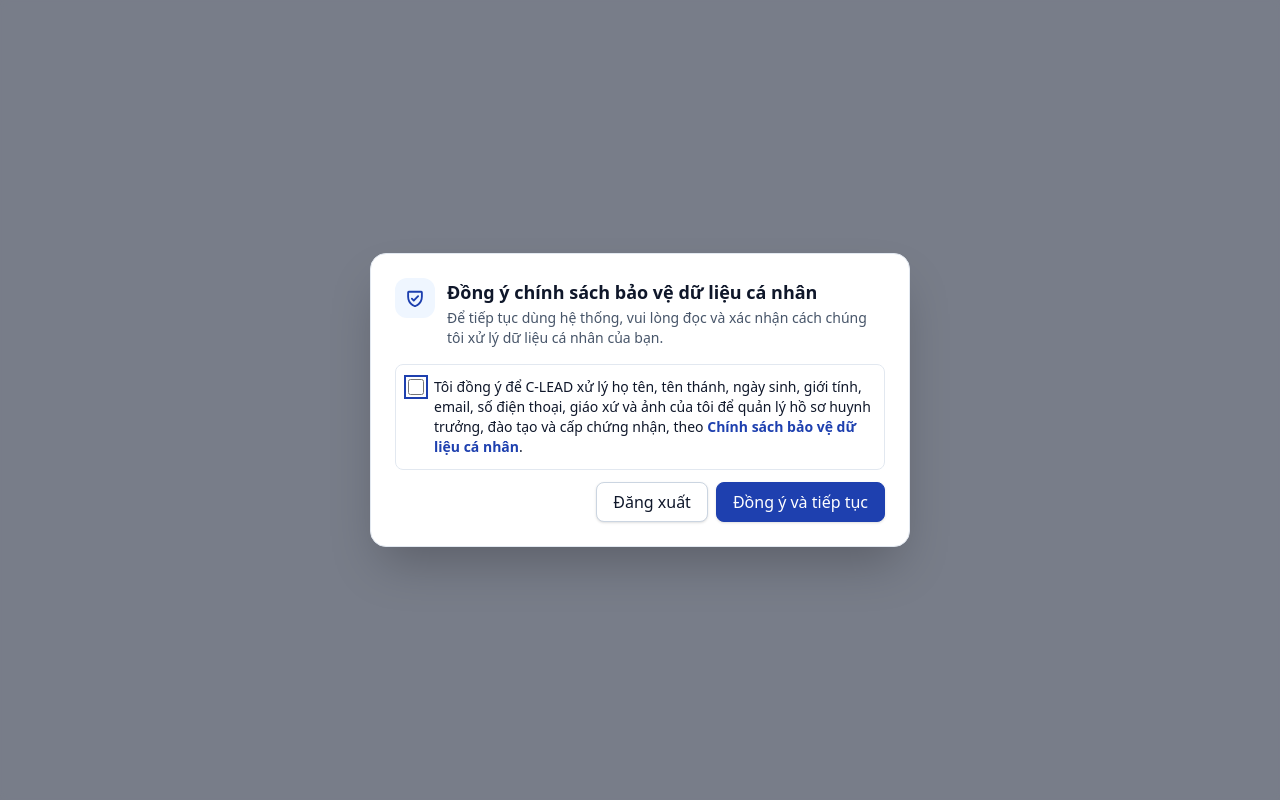
PrivacyConsentGate › blocks with a dialog when consent is missing and refuses to continue until ticked
Expected: the dialog is shown, [370, 253, 910, 547]
Expected: the checkbox is not checked, [408, 379, 424, 395]
Click the button "Đồng ý và tiếp tục" at (800, 502), box [716, 482, 885, 522]
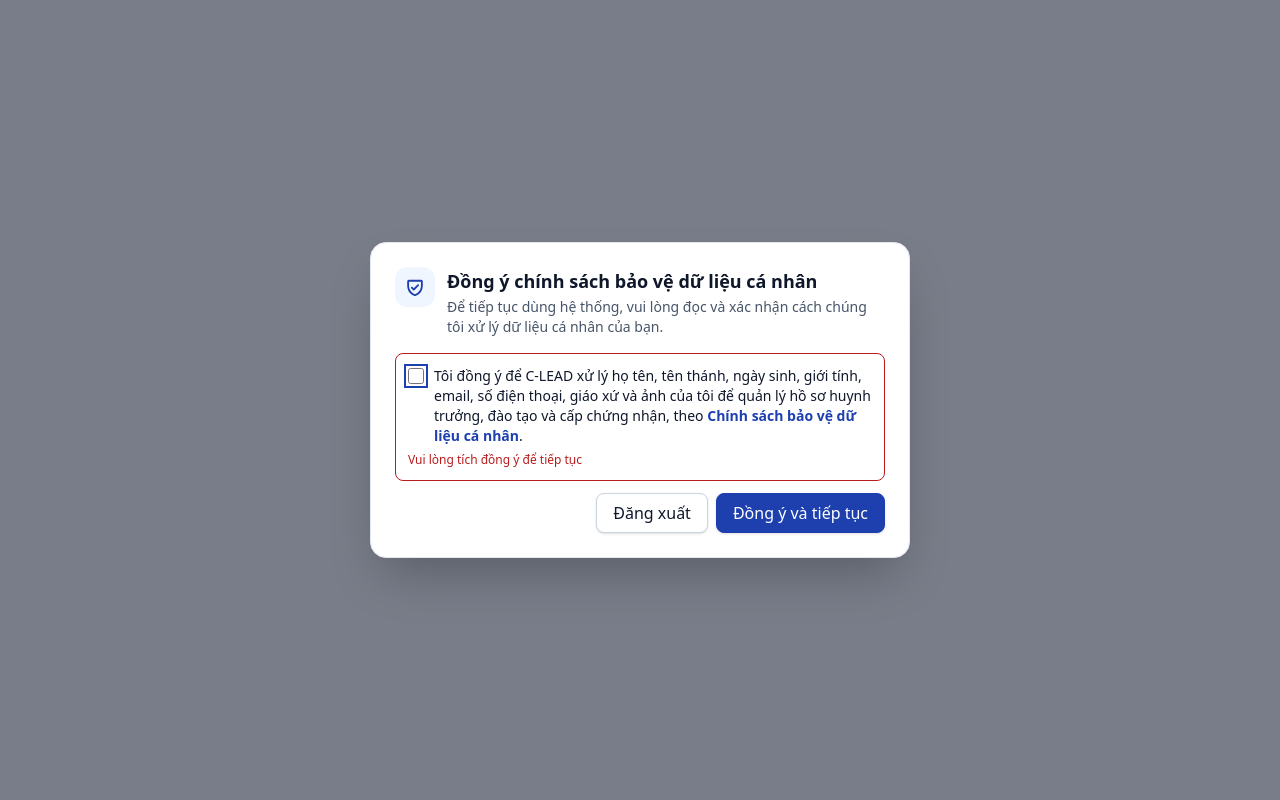
Expected: the text "Vui lòng tích đồng ý để tiếp tục" is shown, [408, 451, 582, 468]
